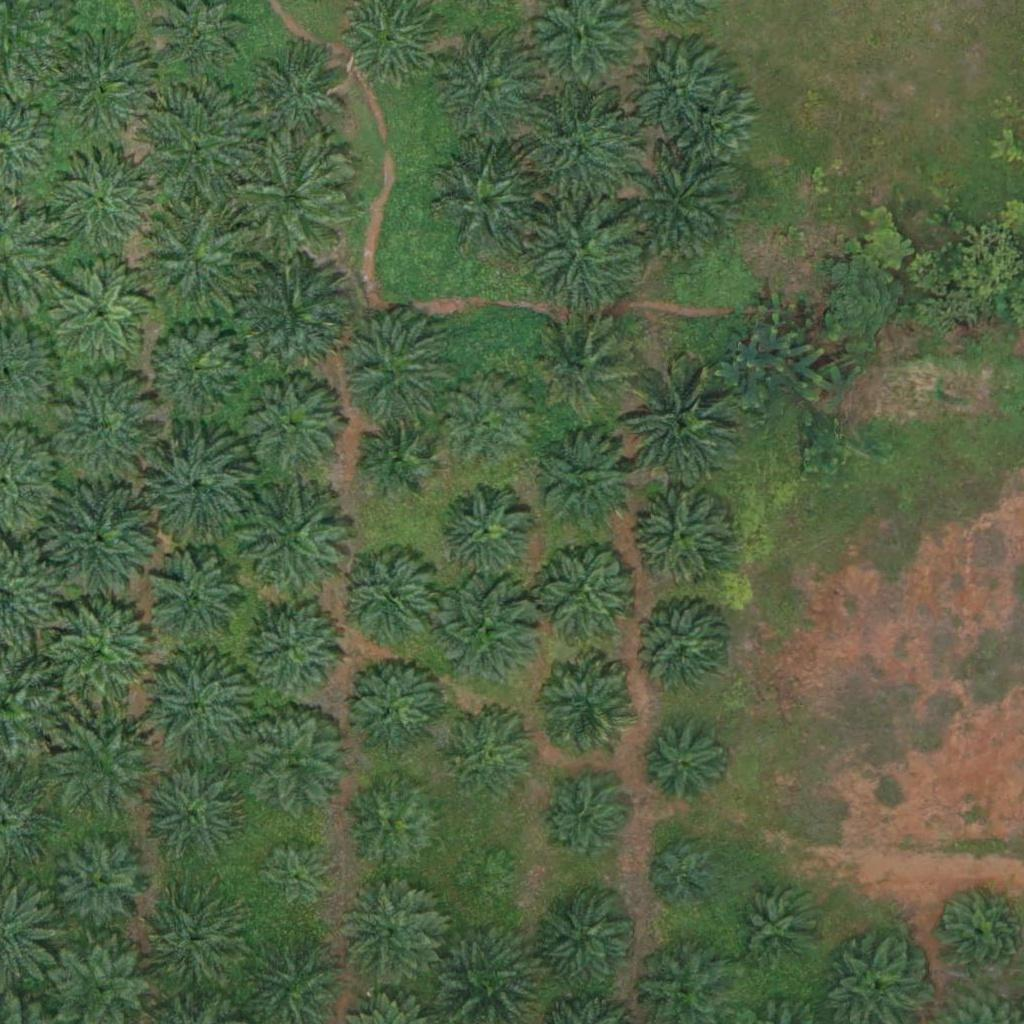Kelapa_Sawit: (233, 140, 346, 254), (337, 314, 450, 428), (529, 535, 642, 649), (427, 574, 540, 688), (51, 368, 164, 481), (43, 478, 156, 591), (522, 94, 635, 207), (624, 156, 737, 269), (528, 885, 641, 998), (144, 653, 257, 766), (45, 599, 158, 712), (42, 25, 154, 139), (46, 140, 158, 254), (141, 92, 253, 206), (138, 200, 250, 314), (238, 253, 350, 367), (235, 368, 347, 482), (627, 371, 739, 484), (139, 421, 251, 534), (237, 486, 349, 599), (431, 145, 543, 258), (527, 198, 639, 311), (532, 429, 644, 542), (47, 710, 159, 823), (537, 319, 637, 420), (437, 42, 537, 143), (50, 259, 150, 360), (145, 550, 245, 651), (245, 46, 345, 147), (631, 485, 731, 586), (444, 704, 544, 805), (342, 653, 442, 754), (346, 772, 446, 873), (338, 880, 438, 981), (242, 598, 342, 699), (243, 710, 343, 811), (143, 759, 243, 860), (140, 892, 240, 993), (53, 836, 153, 937), (146, 316, 246, 416), (335, 549, 435, 649), (437, 372, 537, 472), (434, 484, 534, 584), (633, 599, 733, 699), (534, 659, 634, 759), (638, 723, 726, 811), (733, 885, 821, 973), (633, 45, 720, 133), (668, 85, 755, 173), (540, 775, 627, 863), (934, 888, 1021, 976), (358, 418, 433, 494), (256, 842, 331, 917), (651, 843, 714, 906), (453, 846, 515, 909)
